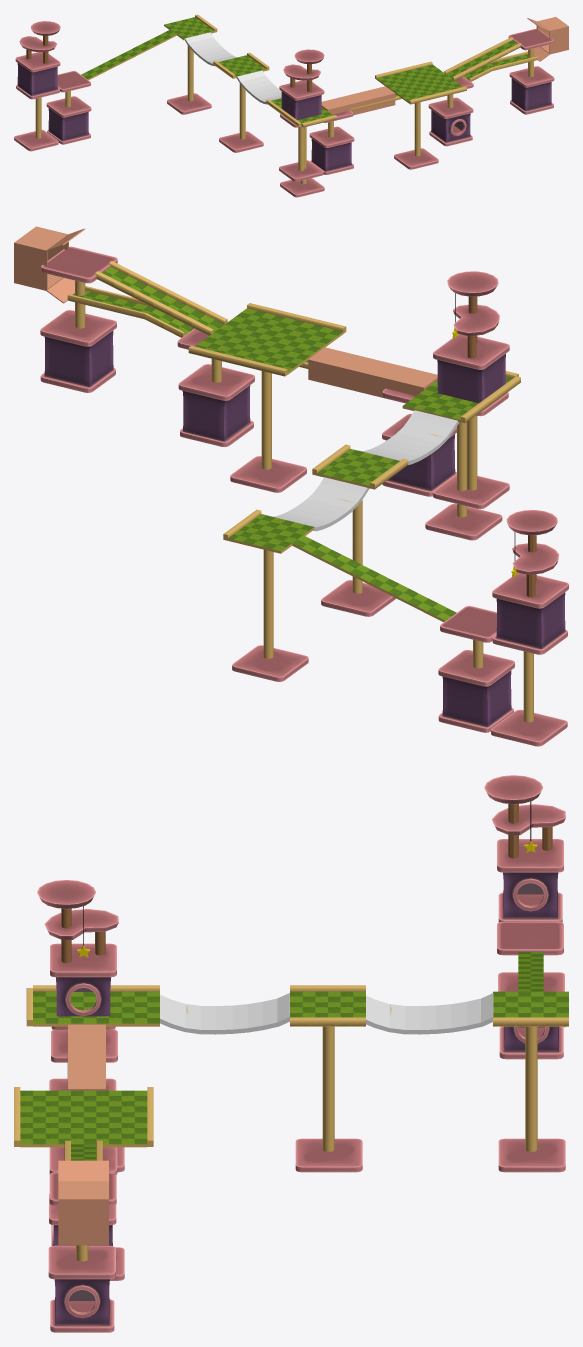
The model's file is LV_2_Greybox.gltf.
3 renders of one model, top to bottom at view 1: azimuth 30°, elevation 25°; view 2: azimuth 150°, elevation 25°; view 3: azimuth 270°, elevation 25°, orthographic. The views are drawn at different scales.
Visible parts, largest first — view 1: SM_Goal_Base.002, SM_Goal_Base.001, SM_Cat_House_Base.005, SM_Cat_House_Base.003, SM_Cat_House_Base.006, SM_Cat_House_Base.002, SM_Cat_House_Ceiling-convcol.017, SM_Cat_House_Ceiling-convcol.009, SM_Cat_House_Ceiling-convcol.010, SM_Cat_House_Ceiling-convcol.012, SM_Cat_House_Ceiling-convcol.015, SM_Cat_House_Ceiling-convcol.008 (+8 smaller); view 2: SM_Goal_Base.002, SM_Goal_Base.001, SM_Cat_House_Base.005, SM_Cat_House_Base.006, SM_Cat_House_Base.003, SM_Cat_House_Base.002, SM_Cat_House_Ceiling-convcol.015, SM_Cat_House_Ceiling-convcol.009, SM_Cat_House_Ceiling-convcol.011, SM_Cat_House_Ceiling-convcol.017, SM_Cat_House_Ceiling-convcol.012, SM_Cat_House_Ceiling-convcol.010 (+8 smaller); view 3: SM_Goal_Base.002, SM_Goal_Base.001, SM_Cat_House_Base.005, SM_Cat_House_Base.006, SM_Cardboard-Back_convcol.001, SM_Cat_House_Ceiling-convcol.014, SM_Cat_House_Ceiling-convcol.010, SM_Cat_House_Ceiling-convcol.009, SM_Cardboard_Top_Flap.001, SM_Cardboard_Roof.001, SM_Cat_House_Ceiling-convcol.004, SM_Cat_House_Base.003 (+1 smaller).
Part boxes in pixels (x1,y1,x2,y2): SM_Goal_Base.002: (15, 21, 60, 99); SM_Goal_Base.001: (279, 49, 324, 127); SM_Cat_House_Base.005: (509, 66, 554, 114); SM_Cat_House_Base.003: (428, 97, 473, 146); SM_Cat_House_Base.006: (46, 96, 91, 144); SM_Cat_House_Base.002: (309, 126, 354, 174); SM_Cat_House_Ceiling-convcol.017: (508, 28, 553, 50); SM_Cat_House_Ceiling-convcol.009: (167, 93, 211, 114); SM_Cat_House_Ceiling-convcol.010: (219, 131, 263, 152); SM_Cat_House_Ceiling-convcol.012: (394, 148, 438, 169); SM_Cat_House_Ceiling-convcol.015: (14, 130, 58, 151); SM_Cat_House_Ceiling-convcol.008: (279, 160, 323, 181); SM_Goal_Base.002: (492, 510, 568, 654); SM_Goal_Base.001: (433, 271, 509, 416); SM_Cat_House_Base.005: (40, 310, 116, 392); SM_Cat_House_Base.006: (438, 650, 514, 732); SM_Cat_House_Base.003: (178, 364, 254, 446); SM_Cat_House_Base.002: (382, 413, 456, 496); SM_Cat_House_Ceiling-convcol.015: (491, 709, 567, 746); SM_Cat_House_Ceiling-convcol.009: (232, 645, 308, 681); SM_Cat_House_Ceiling-convcol.011: (425, 503, 502, 540); SM_Cat_House_Ceiling-convcol.017: (41, 246, 117, 283); SM_Cat_House_Ceiling-convcol.012: (230, 456, 306, 492); SM_Cat_House_Ceiling-convcol.010: (321, 580, 396, 616); SM_Goal_Base.002: (484, 775, 565, 922); SM_Goal_Base.001: (37, 880, 118, 1029); SM_Cat_House_Base.005: (48, 1245, 115, 1332); SM_Cat_House_Base.006: (498, 972, 564, 1059); SM_Cardboard-Back_convcol.001: (58, 1199, 108, 1245); SM_Cat_House_Ceiling-convcol.014: (497, 921, 563, 955); SM_Cat_House_Ceiling-convcol.010: (295, 1138, 362, 1172); SM_Cat_House_Ceiling-convcol.009: (498, 1138, 565, 1172); SM_Cardboard_Top_Flap.001: (58, 1160, 108, 1181); SM_Cardboard_Roof.001: (58, 1181, 108, 1199); SM_Cat_House_Ceiling-convcol.004: (51, 1029, 117, 1062); SM_Cat_House_Base.003: (49, 1194, 116, 1275).
Size of the model in its own units: 75.52 by 23.32 by 43.75.
4 materials, 2 textured.
